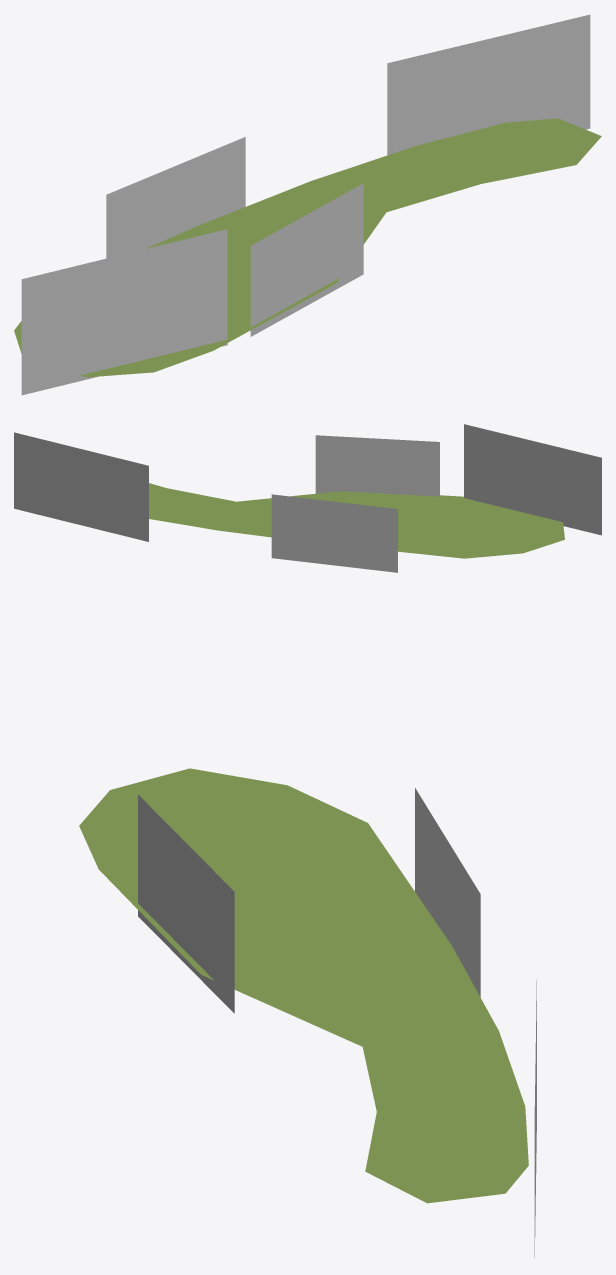
The model's file is Mesh_Battle_Forest_Ground_03.FBX.
The picture shows the model from 3 angles, top to bottom: view 1: azimuth 30°, elevation 25°; view 2: azimuth 150°, elevation 25°; view 3: azimuth 270°, elevation 25°; orthographic projection. The views are drawn at different scales.
Parts seen in each view (by area): view 1: Mesh_Battle_Forest_Grass_09, Mesh_Battle_Forest_Ground_03; view 2: Mesh_Battle_Forest_Grass_09, Mesh_Battle_Forest_Ground_03; view 3: Mesh_Battle_Forest_Ground_03, Mesh_Battle_Forest_Grass_09.
Part boxes in pixels (left/top/right/bottom): Mesh_Battle_Forest_Grass_09: left=21, top=14, right=590, bottom=395; Mesh_Battle_Forest_Ground_03: left=14, top=118, right=601, bottom=377; Mesh_Battle_Forest_Grass_09: left=14, top=424, right=601, bottom=572; Mesh_Battle_Forest_Ground_03: left=149, top=483, right=564, bottom=558; Mesh_Battle_Forest_Ground_03: left=79, top=768, right=528, bottom=1203; Mesh_Battle_Forest_Grass_09: left=138, top=788, right=536, bottom=1257.
Bounding box in the file's own units: 40.84 × 7.51 × 16.72.
